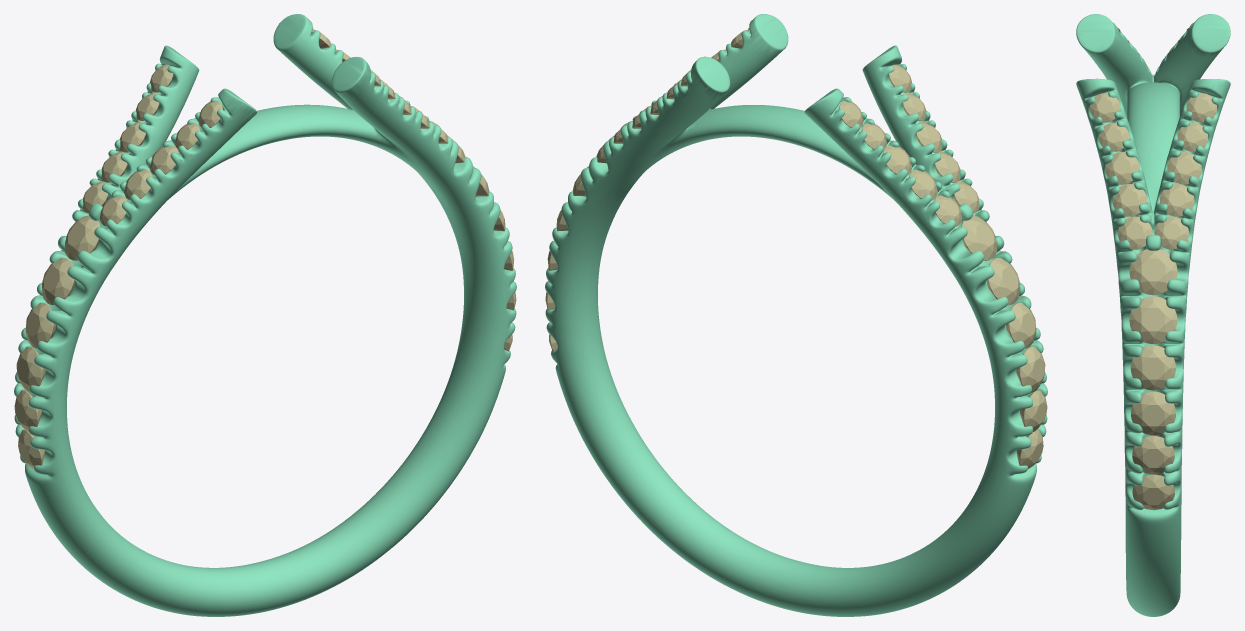
3 renders of one model, left to right at view 1: azimuth 30°, elevation 25°; view 2: azimuth 150°, elevation 25°; view 3: azimuth 270°, elevation 25°, orthographic.
Visible parts, largest first — view 1: Metal02, Diamond_Gem.001, Diamond_Gem, Diamond_Gem.002, Diamond_Gem.015, Diamond_Gem.003; view 2: Metal02, Diamond_Gem.001, Diamond_Gem, Diamond_Gem.002, Diamond_Gem.015, Diamond_Gem.003; view 3: Metal02, Diamond_Gem.030, Diamond_Gem.031, Diamond_Gem.029, Diamond_Gem.016, Diamond_Gem.028, Diamond_Gem.027, Diamond_Gem.019, Diamond_Gem.018, Diamond_Gem.020, Diamond_Gem.017, Diamond_Gem.022 (+5 smaller).
Part boxes in pixels (left/top/right/bottom): Metal02: left=14, top=14, right=516, bottom=616; Diamond_Gem.001: left=41, top=258, right=74, bottom=305; Diamond_Gem: left=64, top=215, right=100, bottom=260; Diamond_Gem.002: left=25, top=302, right=55, bottom=348; Diamond_Gem.015: left=16, top=346, right=45, bottom=392; Diamond_Gem.003: left=14, top=390, right=41, bottom=431; Metal02: left=545, top=14, right=1047, bottom=616; Diamond_Gem.001: left=987, top=258, right=1020, bottom=305; Diamond_Gem: left=961, top=215, right=997, bottom=260; Diamond_Gem.002: left=1006, top=302, right=1036, bottom=348; Diamond_Gem.015: left=1016, top=346, right=1045, bottom=392; Diamond_Gem.003: left=1020, top=390, right=1047, bottom=431; Metal02: left=1076, top=14, right=1230, bottom=616; Diamond_Gem.030: left=1129, top=296, right=1177, bottom=343; Diamond_Gem.031: left=1129, top=249, right=1177, bottom=295; Diamond_Gem.029: left=1130, top=345, right=1175, bottom=390; Diamond_Gem.016: left=1131, top=391, right=1175, bottom=435; Diamond_Gem.028: left=1132, top=435, right=1174, bottom=474; Diamond_Gem.027: left=1132, top=474, right=1174, bottom=510; Diamond_Gem.019: left=1160, top=184, right=1194, bottom=216; Diamond_Gem.018: left=1112, top=184, right=1146, bottom=216; Diamond_Gem.020: left=1154, top=216, right=1188, bottom=249; Diamond_Gem.017: left=1118, top=216, right=1152, bottom=249; Diamond_Gem.022: left=1105, top=152, right=1139, bottom=184.
Bounding box in the file's own units: 20.88 × 22.57 × 5.8.
